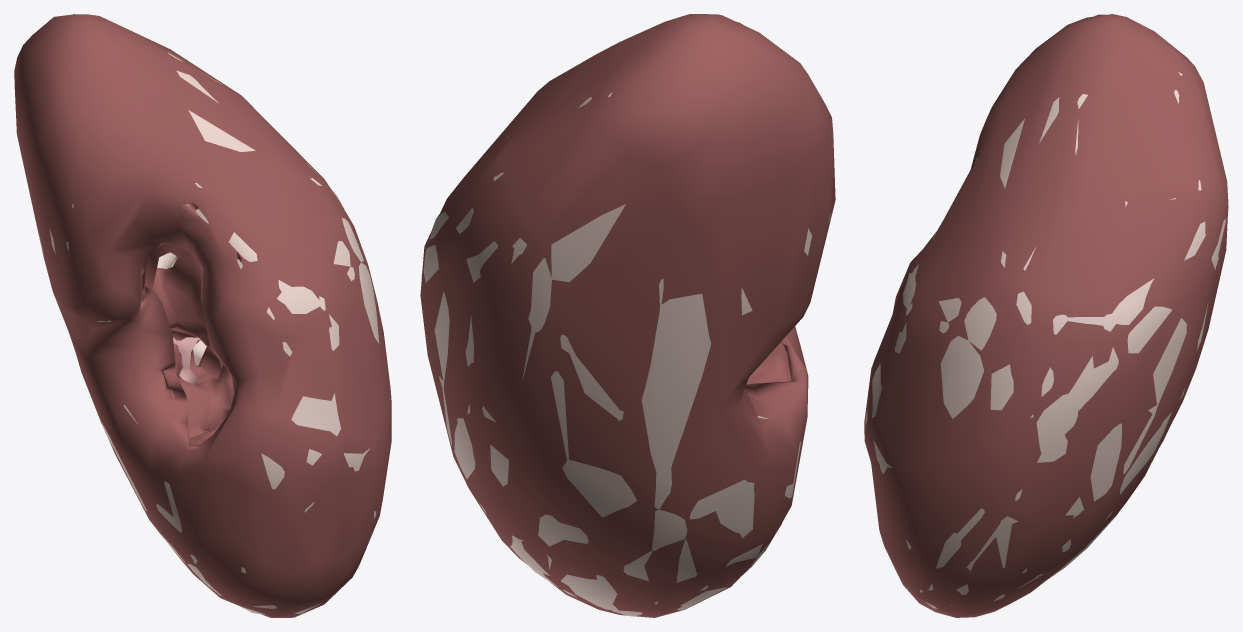
Rendered from kidney_l.glb.
3 renders of one model, left to right at view 1: azimuth 30°, elevation 25°; view 2: azimuth 150°, elevation 25°; view 3: azimuth 270°, elevation 25°, orthographic. The views are drawn at different scales.
Visible parts, largest first — view 1: VH_F_kidney_capsule_L, VH_F_outer_cortex_of_kidney_L, VH_F_hilum_of_kidney_L, VH_F_renal_pyramid_L_g; view 2: VH_F_kidney_capsule_L, VH_F_outer_cortex_of_kidney_L, VH_F_hilum_of_kidney_L; view 3: VH_F_kidney_capsule_L, VH_F_outer_cortex_of_kidney_L.
Boxes of the visible parts, left/top/right/bottom form: VH_F_kidney_capsule_L: left=14, top=14, right=391, bottom=617; VH_F_outer_cortex_of_kidney_L: left=38, top=52, right=378, bottom=614; VH_F_hilum_of_kidney_L: left=103, top=203, right=241, bottom=444; VH_F_renal_pyramid_L_g: left=173, top=337, right=200, bottom=384; VH_F_kidney_capsule_L: left=420, top=14, right=835, bottom=617; VH_F_outer_cortex_of_kidney_L: left=421, top=40, right=830, bottom=616; VH_F_hilum_of_kidney_L: left=746, top=343, right=791, bottom=384; VH_F_kidney_capsule_L: left=864, top=14, right=1228, bottom=617; VH_F_outer_cortex_of_kidney_L: left=865, top=72, right=1228, bottom=608.
Size of the model in its own units: 0.0729 by 0.1248 by 0.0771.
